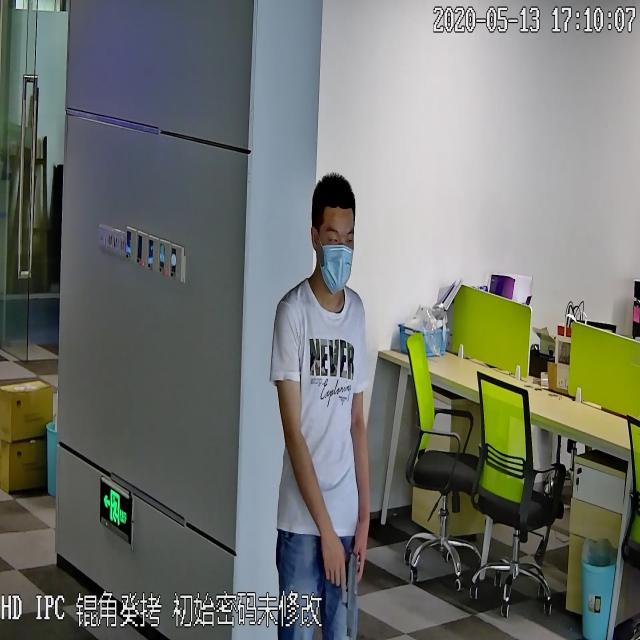gun: (326, 535, 360, 640)
